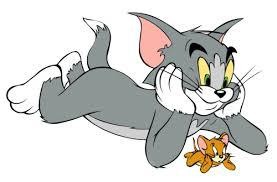tom: (7, 12, 268, 167)
